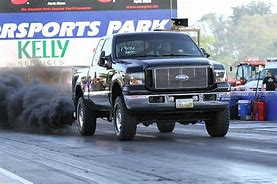smoke: (1, 66, 72, 134)
